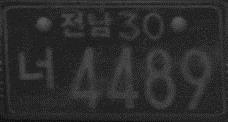0: (142, 12, 165, 41)
3: (117, 10, 139, 41)
4: (67, 46, 104, 109), (106, 46, 139, 111)
8: (144, 48, 177, 111)
9: (180, 47, 214, 111)
너: (18, 44, 54, 91)
전남_O: (59, 10, 111, 40)
